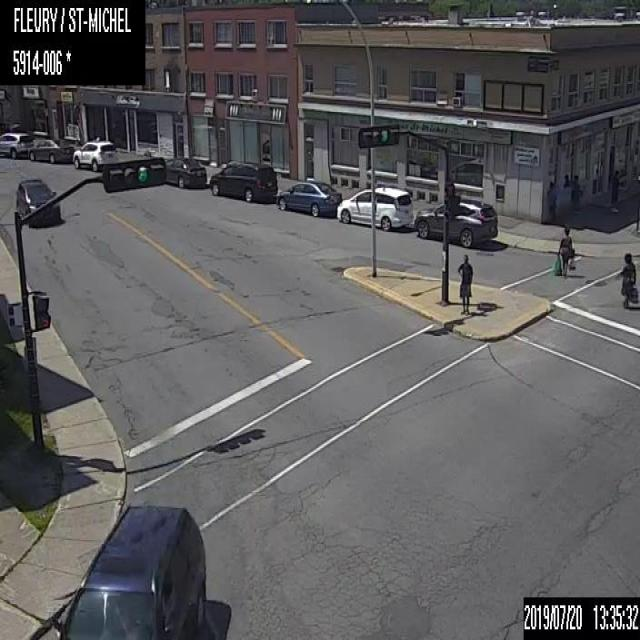pedestrian: (551, 224, 575, 277), (616, 252, 638, 308), (457, 253, 472, 315), (545, 179, 559, 225), (570, 174, 582, 212), (609, 169, 619, 212)
vehicle: (59, 501, 206, 639), (414, 197, 497, 246), (336, 186, 413, 230), (209, 161, 277, 202), (276, 180, 342, 216), (15, 176, 59, 227), (72, 136, 116, 170), (164, 156, 206, 188), (27, 138, 73, 163), (0, 132, 31, 159)
